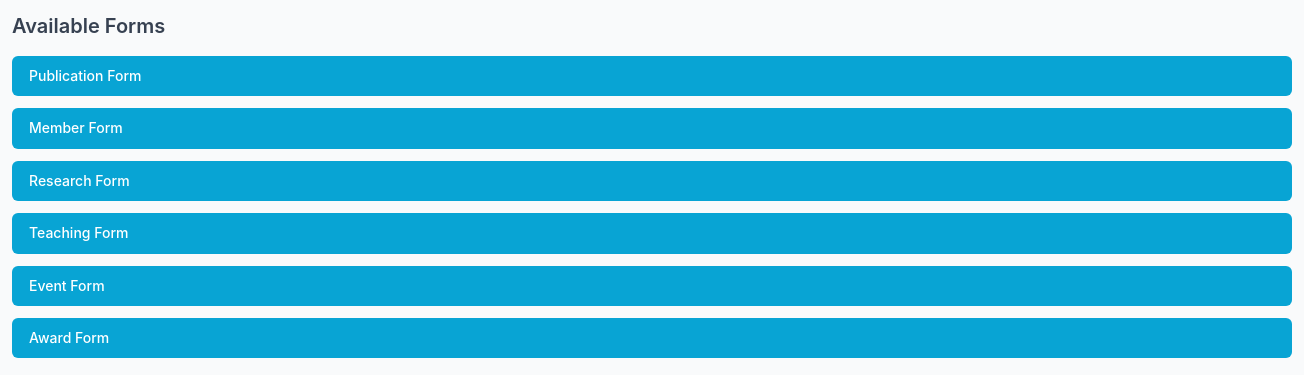
Test: AdminForm.vue › shows MemberForm when clicking Member Form button
Click the button "Member Form" at (76, 128), box [12,108,1292,149]
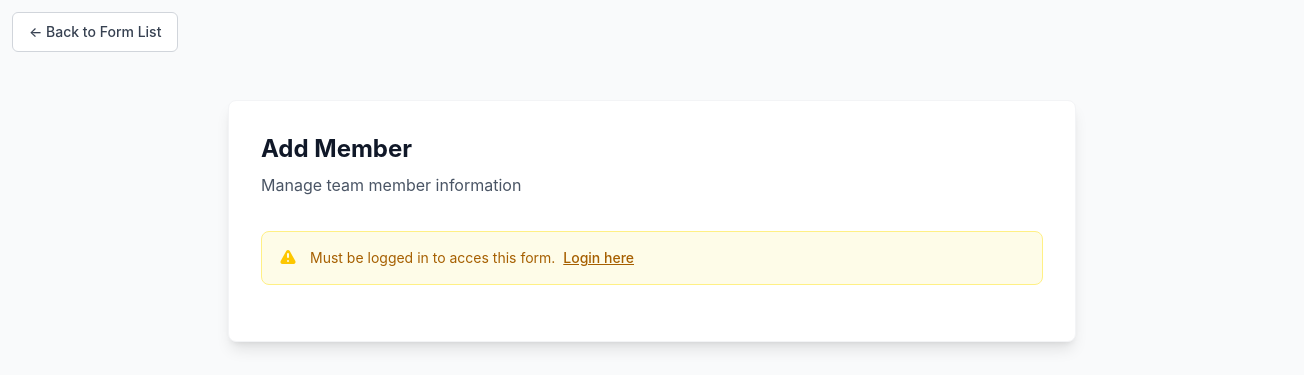
Check: the button "← Back to Form List" is shown, box [12,12,178,52]
